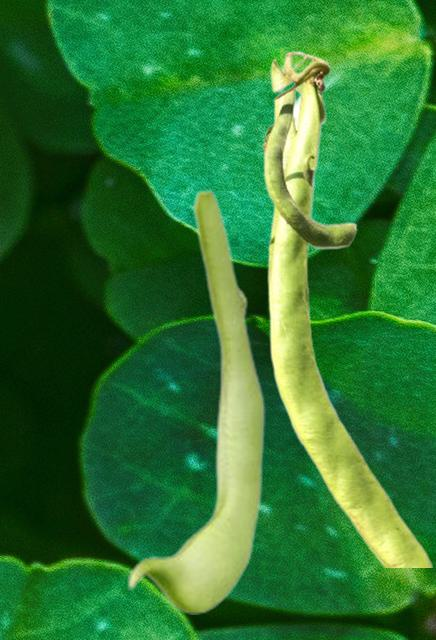french_bean: (261, 50, 432, 566), (126, 187, 264, 613)
